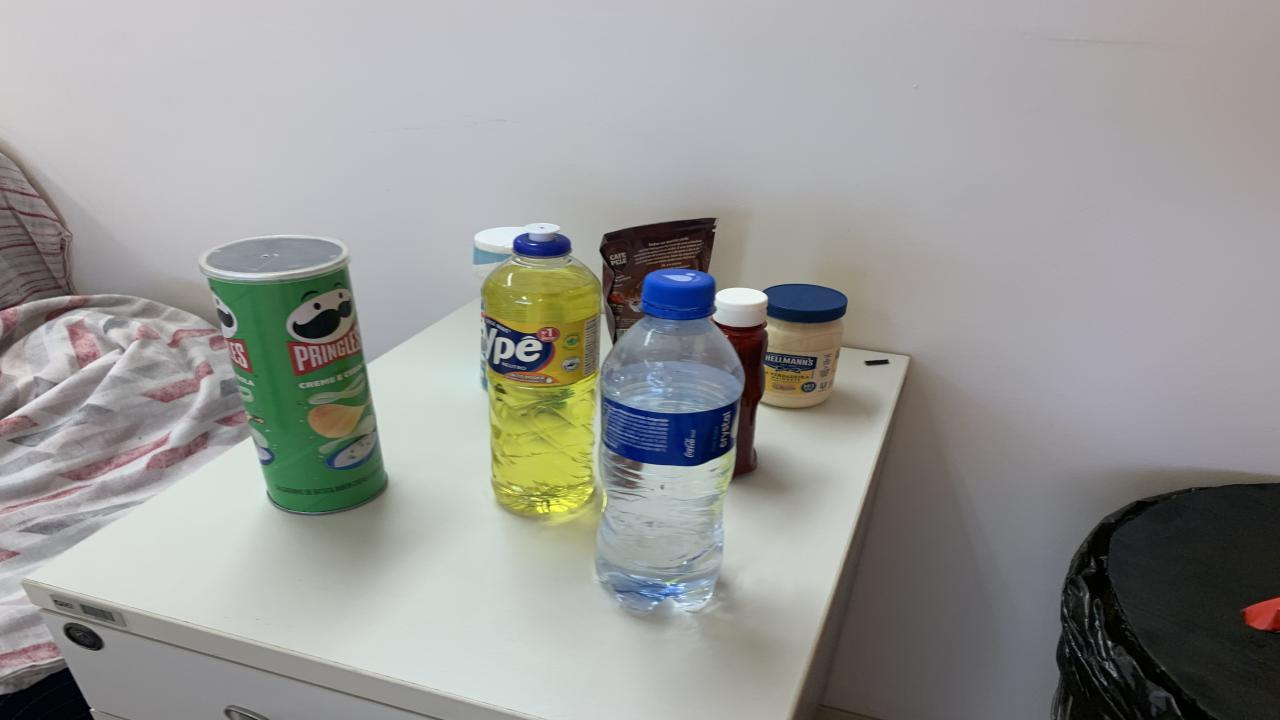Cleaner-Cleanup_Items: (472, 227, 525, 279)
Coffee-Pantry_Items: (600, 218, 718, 341)
Detergent-Cleanup_Items: (482, 232, 600, 514)
Ketchup-Pantry_Items: (712, 287, 768, 476)
Mayonnaise-Pantry_Items: (762, 285, 848, 407)
Pringles-Snacks: (200, 236, 388, 514)
Water_Bottle-Drinks: (595, 268, 745, 609)
